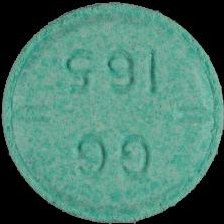55700-307: (0, 0, 224, 224)
